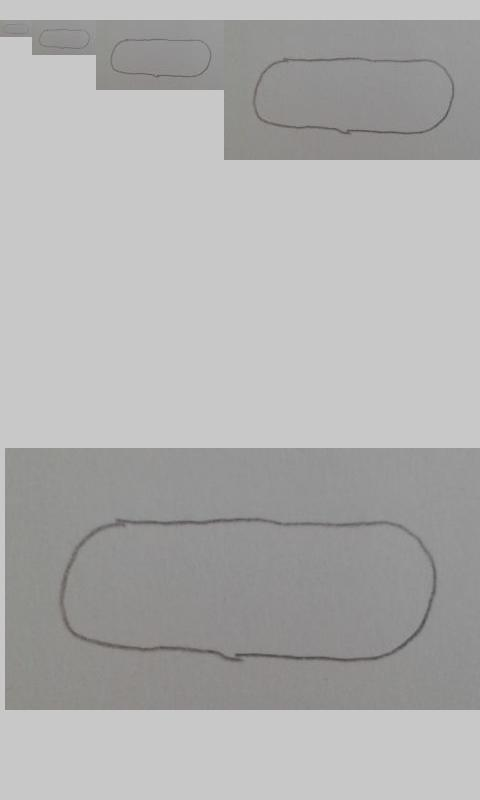chip: (58, 518, 439, 664), (252, 57, 455, 136), (110, 38, 212, 78), (38, 28, 91, 50), (1, 23, 30, 35)
